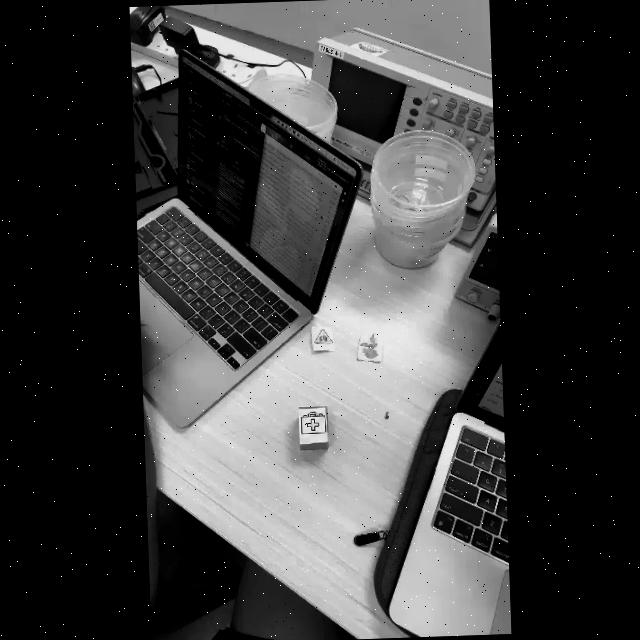Medkit: (299, 410, 326, 435)
